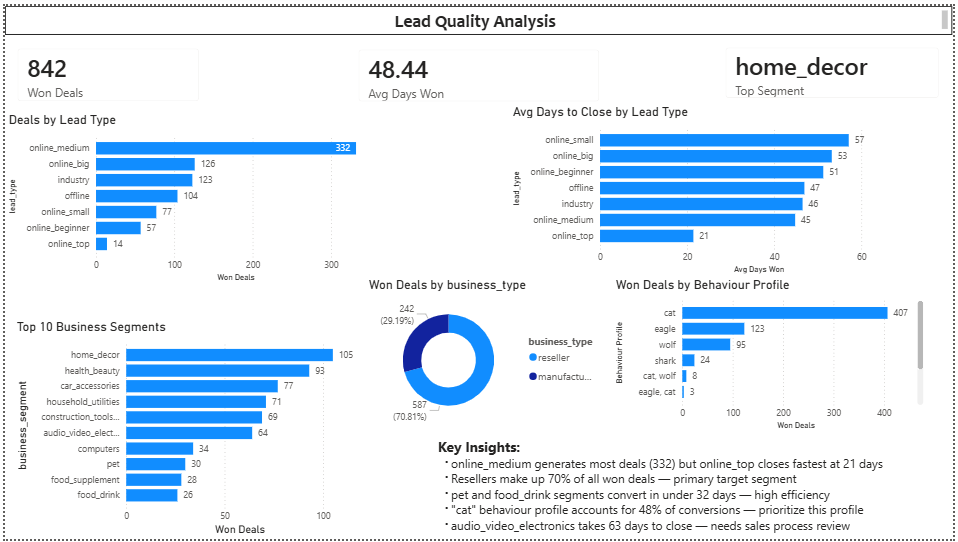

This screenshot's page, from the dashboard's own definition file:
{"tool":"powerbi","page":{"name":"Lead Quality Analysis","canvas":[1280,720],"ordinal":2},"visuals":[{"type":"cardVisual","fields":{"Data":["Table.Avg Days Won"]},"box":[460.8,41.9,359.5,104.1],"z":0},{"type":"cardVisual","fields":{"Data":["Table.Won Deals"]},"box":[0,40.5,279.7,105.4],"z":1000},{"type":"clusteredBarChart","title":"Deals by Lead Type","fields":{"Category":["olist_funnel_cleaned.lead_type"],"Y":["Table.Won Deals"]},"box":[0,143.2,516.2,233.8],"z":2000},{"type":"clusteredBarChart","title":"Avg Days to Close by Lead Type","fields":{"Category":["olist_funnel_cleaned.lead_type"],"Y":["Table.Avg Days Won"]},"box":[681.1,132.4,564.9,233.8],"z":3000},{"type":"clusteredBarChart","title":"Top 10 Business Segments","fields":{"Category":["olist_funnel_cleaned.business_segment"],"Y":["Table.Won Deals"]},"box":[10.8,423,475.7,297.3],"z":4000},{"type":"donutChart","fields":{"Category":["olist_funnel_cleaned.business_type"],"Y":["Table.Won Deals"]},"box":[486.5,366.2,329.7,205.4],"z":5000},{"type":"clusteredBarChart","fields":{"Category":["olist_funnel_cleaned.lead_behaviour_profile"],"Y":["Table.Won Deals"]},"box":[820.3,366.2,425.7,210.8],"z":6000},{"type":"textbox","box":[579.7,577,700,143.2],"z":7000},{"type":"cardVisual","fields":{"Data":["olist_funnel_cleaned.Top Segment"]},"box":[956.8,39.2,323,102.7],"z":8000},{"type":"textbox","box":[0,0,1279.7,39.2],"z":9000}]}

Visuals, with their boxes in screenshot pixels (x1, y1, x2, y2), scaled from the page's 1280x720 canvas onto the 958x542 screenshot:
cardVisual - Table.Avg Days Won: locate(345, 32, 614, 110)
cardVisual - Table.Won Deals: locate(0, 30, 209, 110)
"Deals by Lead Type" clusteredBarChart: locate(0, 108, 386, 284)
"Avg Days to Close by Lead Type" clusteredBarChart: locate(510, 100, 933, 276)
"Top 10 Business Segments" clusteredBarChart: locate(8, 318, 364, 541)
donutChart - olist_funnel_cleaned.business_type x Table.Won Deals: locate(364, 276, 611, 430)
clusteredBarChart - olist_funnel_cleaned.lead_behaviour_profile x Table.Won Deals: locate(614, 276, 933, 434)
textbox: locate(434, 434, 957, 541)
cardVisual - olist_funnel_cleaned.Top Segment: locate(716, 30, 957, 107)
textbox: locate(0, 0, 957, 30)
